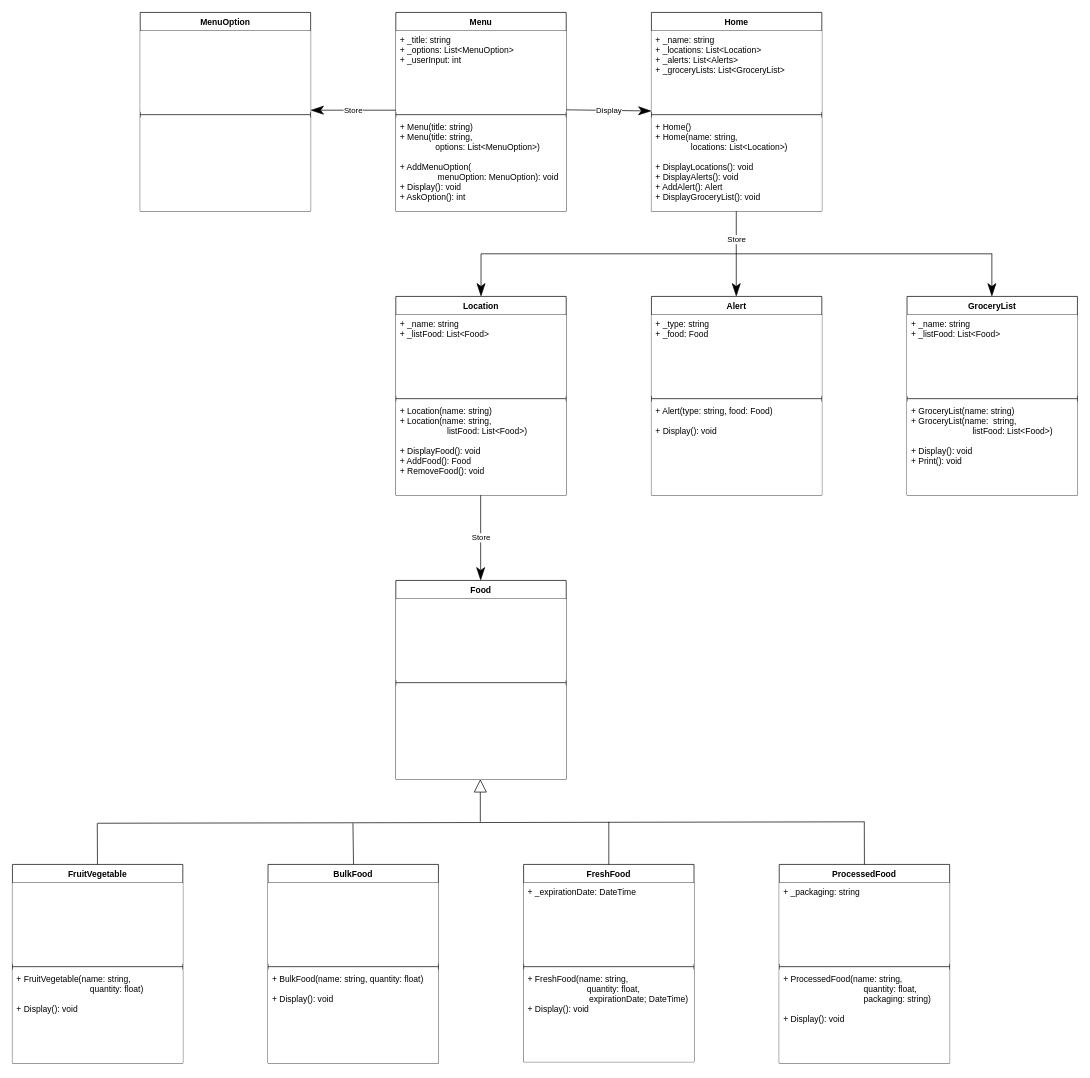
The diagram is 1090 pixels wide and 1078 high, and some of its shapes have lost their labels. Here are the shapes that lost their labels. From the top down, the centre of each, then its label:
the point at 225,71: + _id: int + _title: string
the point at 225,164: + MenuOption(id: int, title: string) + Display(): void
the point at 480,639: + _name: string + _quantity: float
the point at 480,732: + Food(name: string, quantity: float) + Display(): void
